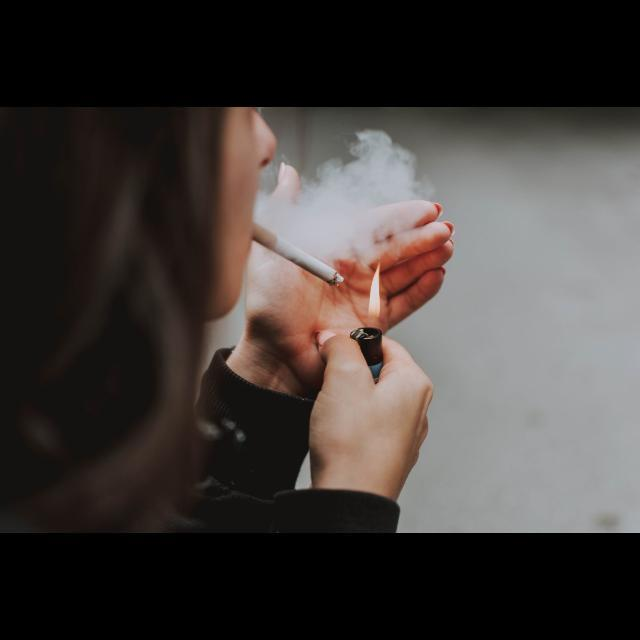rokok: (250, 213, 350, 294)
